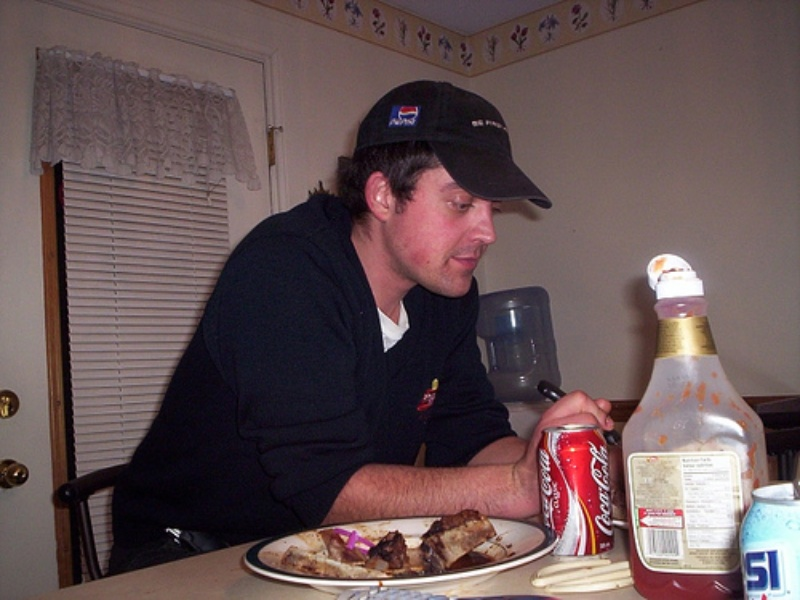person: (108, 80, 614, 577)
